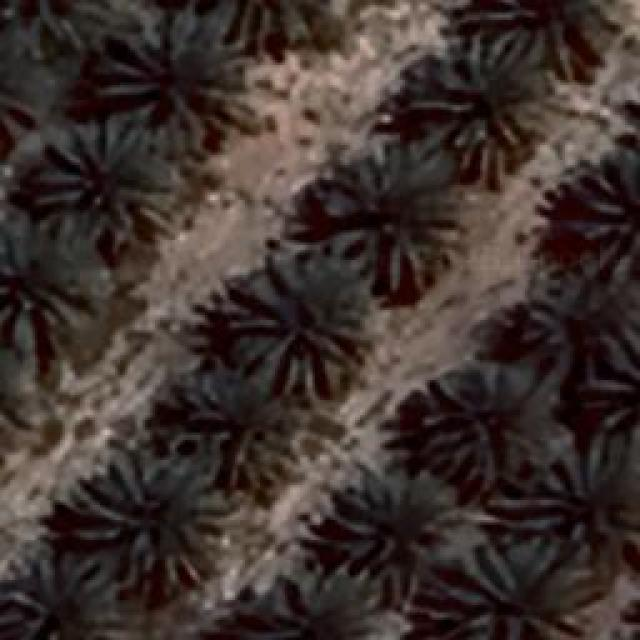PalmTree: (17, 25, 270, 119), (310, 138, 462, 292), (74, 448, 228, 582), (30, 117, 175, 250), (415, 358, 560, 480), (420, 542, 600, 638), (0, 220, 102, 375), (240, 264, 365, 378), (330, 465, 445, 573), (532, 448, 640, 562), (160, 368, 288, 464), (100, 34, 222, 134), (418, 59, 536, 159), (260, 560, 402, 638), (474, 0, 608, 78), (0, 562, 118, 640), (524, 268, 608, 362), (578, 150, 638, 272), (0, 0, 109, 51), (587, 332, 635, 432), (0, 336, 29, 449)
